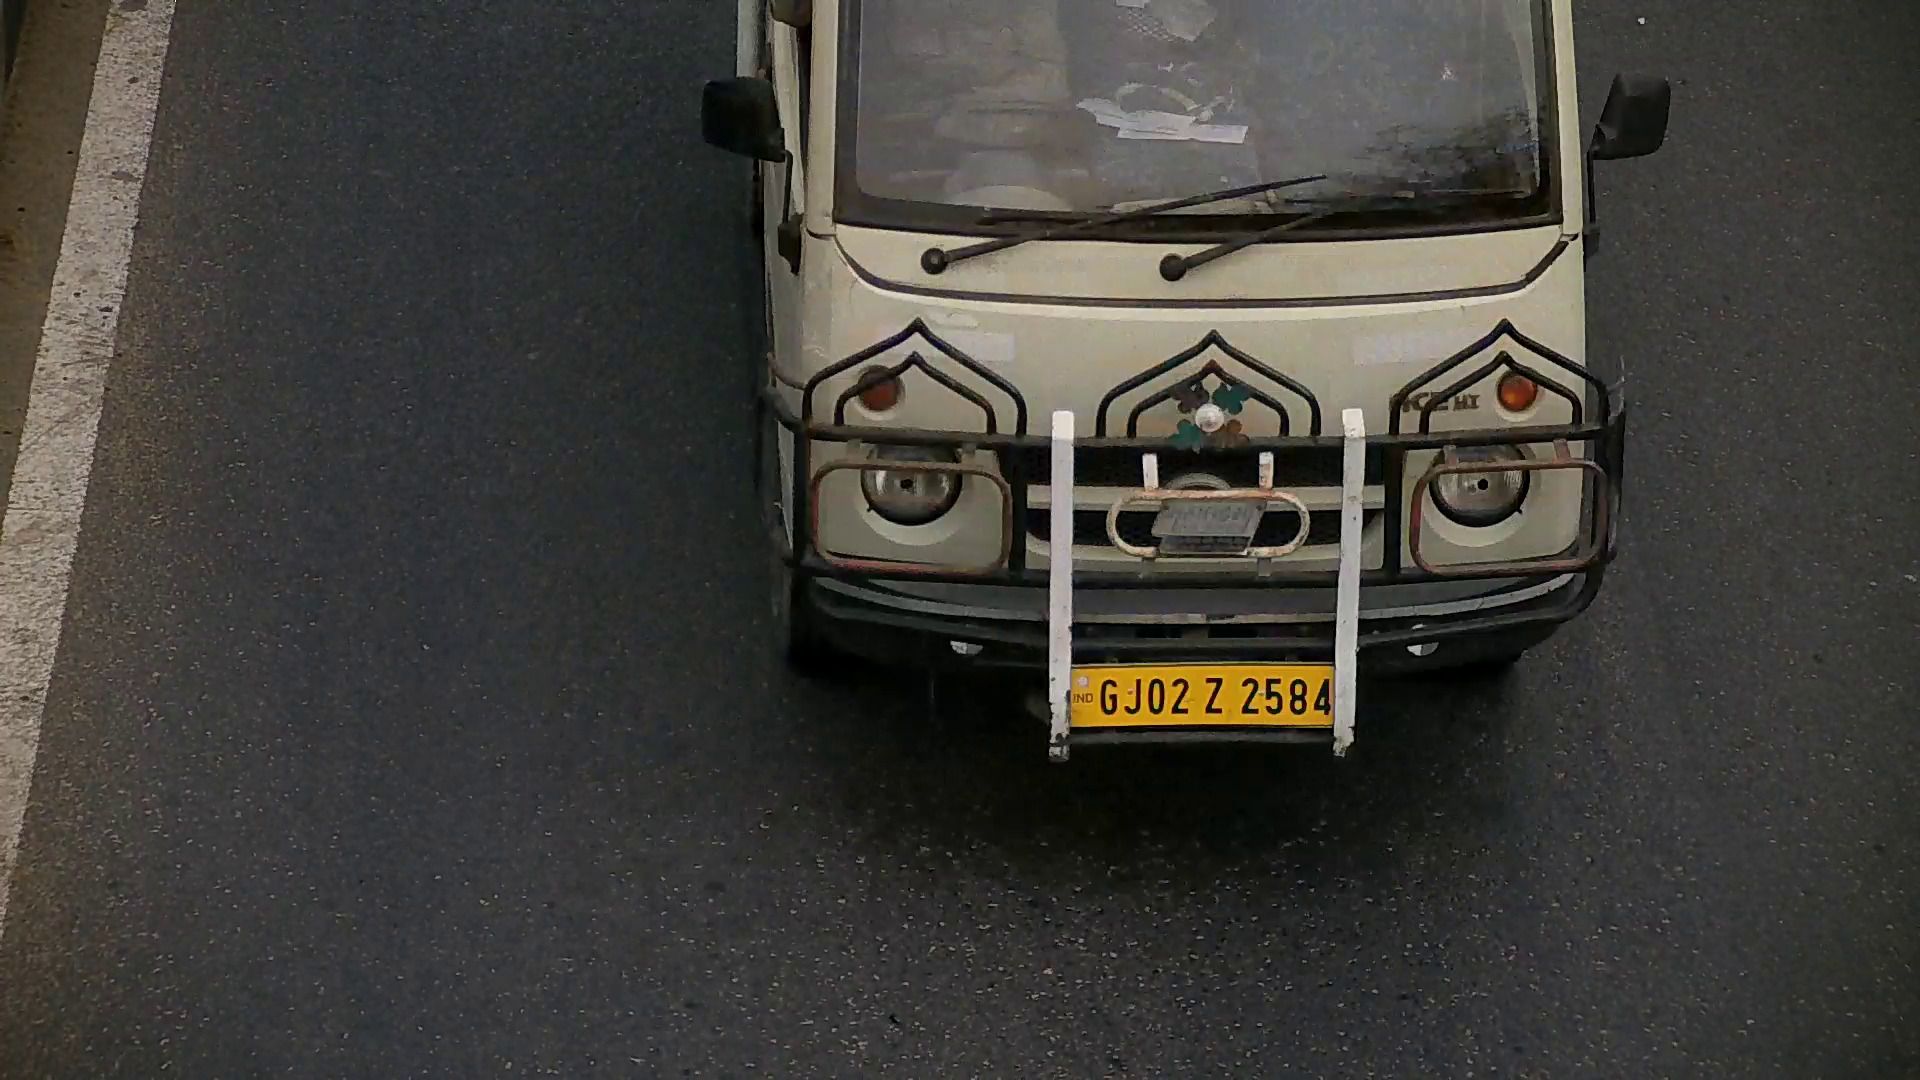numberplate: (1074, 660, 1335, 731)
